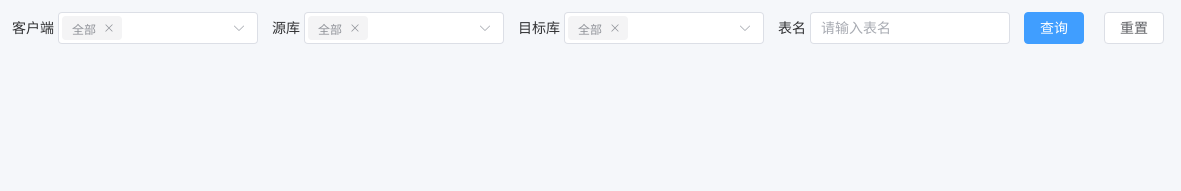
it: OffsetQueryBar 查询区“全部”互斥与查询/重置（TOFF-REQ-024/025/034/035/036/037） › “全部”固定为每个维度下拉第一项
The image size is (1181, 191).
What coordinates should you click on to do the following:
click the element showing "全部" next to "客户端"
I would click on:
 (158, 28)
Its box is x1=58 y1=12 x2=258 y2=44.
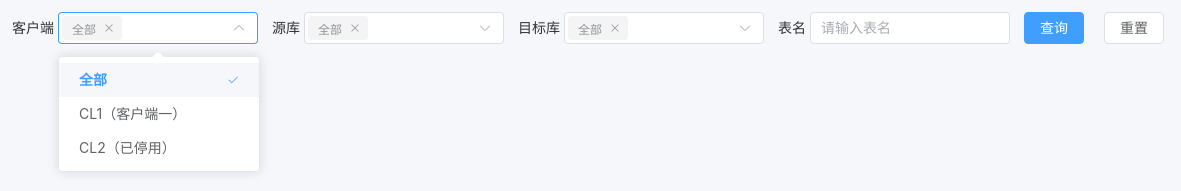
Expected: the option "全部" is shown, x1=59 y1=63 x2=259 y2=97
